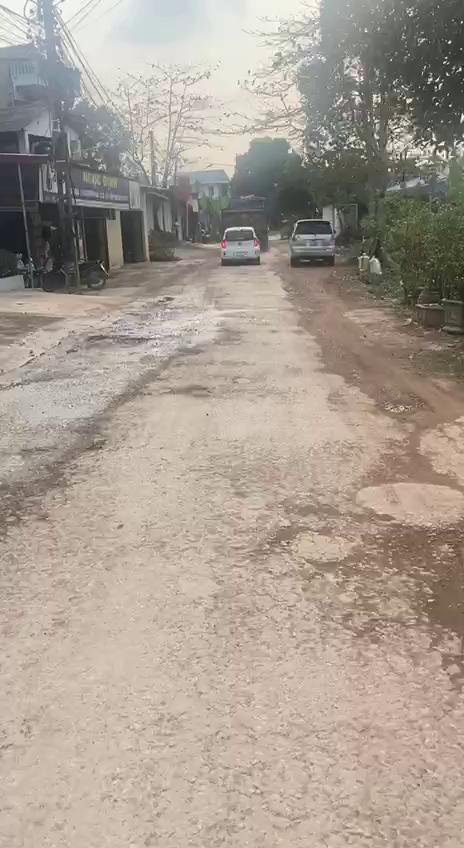pothole: (406, 558, 464, 644), (271, 518, 312, 555)
